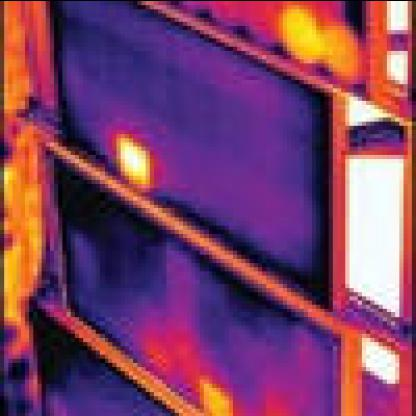Defects: (108, 138, 150, 192), (320, 25, 362, 75), (341, 92, 391, 134), (283, 13, 320, 58), (199, 374, 238, 415), (358, 346, 408, 370)
